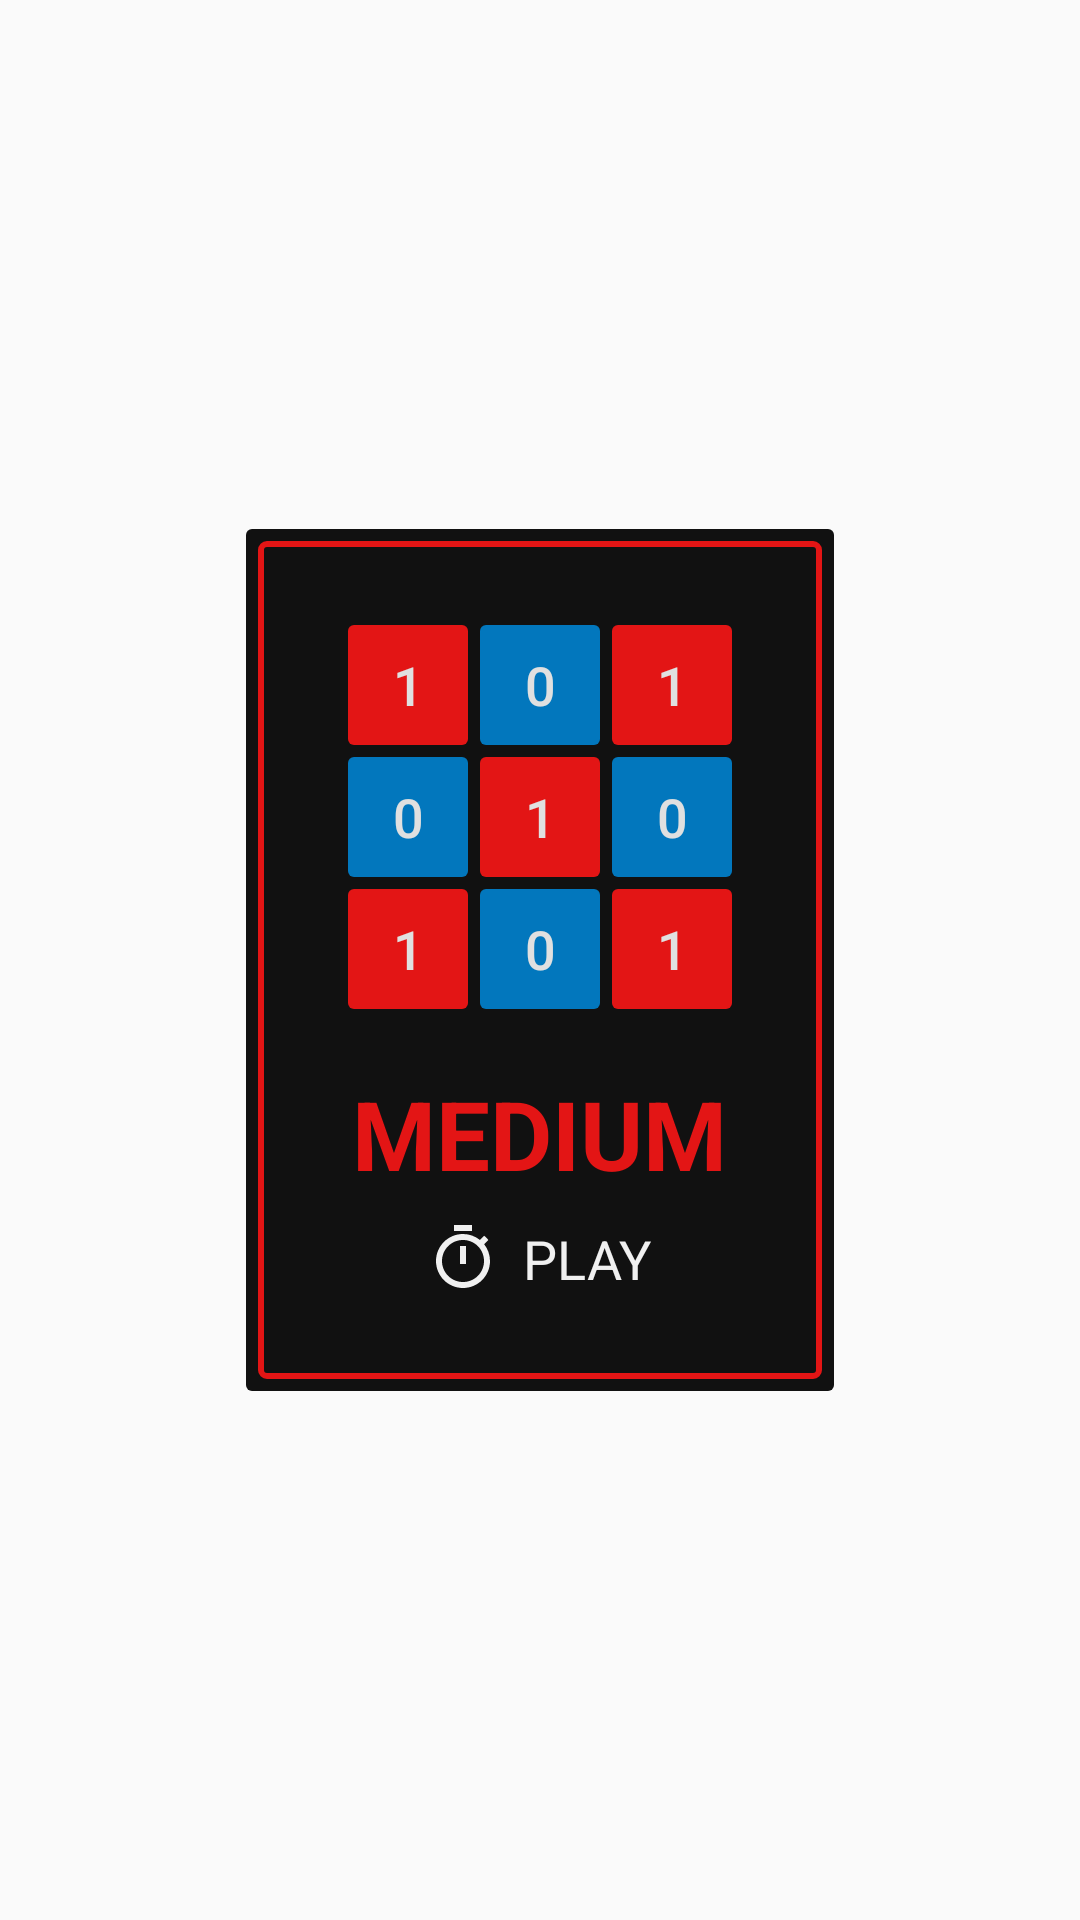

Icon click points for this 1080×1920 phone screenshot, format (x,y):
watch: (463,1256)
